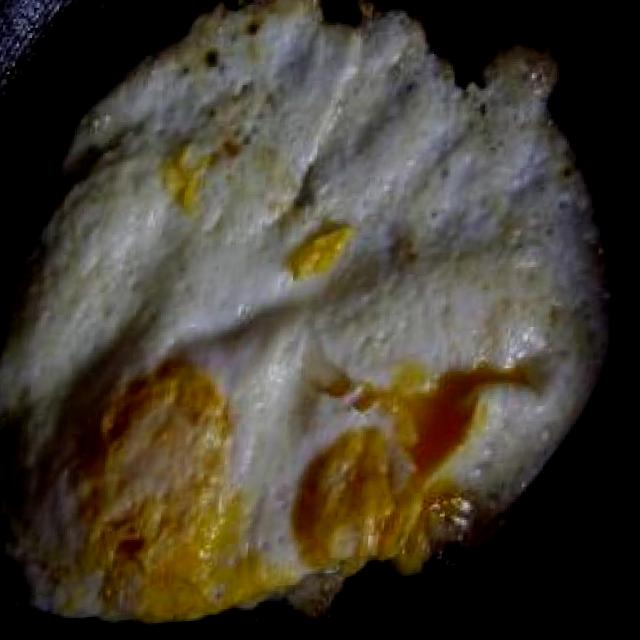fried_eggs: (0, 0, 629, 640)
